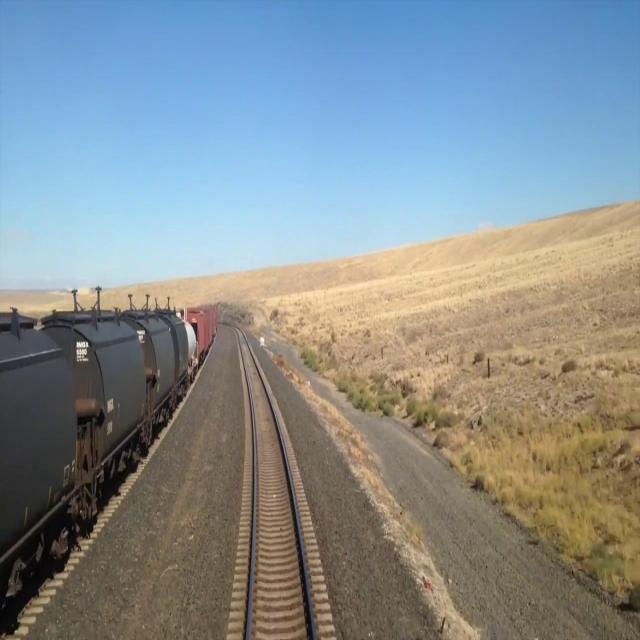rail-track: (237, 329, 312, 639)
